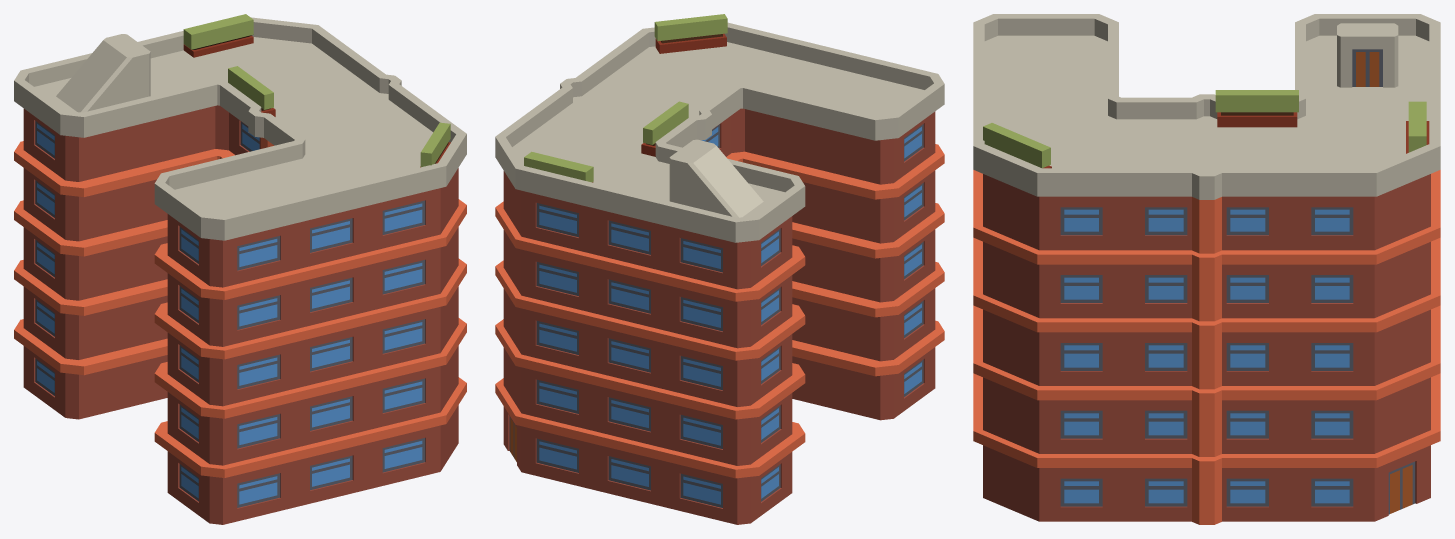
3 views of the same model, side by side, from view 1: azimuth 30°, elevation 25°; view 2: azimuth 150°, elevation 25°; view 3: azimuth 270°, elevation 25° (orthographic). The views are drawn at different scales.
Visible parts, largest first — view 1: predio 3; view 2: predio 3; view 3: predio 3.
Part boxes in pixels (box(x1,y1,x2,y2)): predio 3: box(14, 14, 466, 524); predio 3: box(495, 14, 944, 524); predio 3: box(973, 14, 1440, 524).
Bounding box in the file's own units: 10225 × 11368 × 12437.
